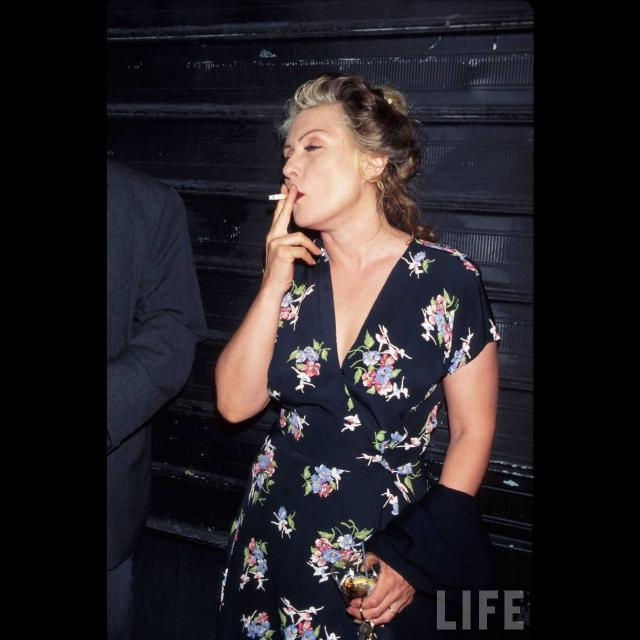rokok: (266, 190, 290, 202)
